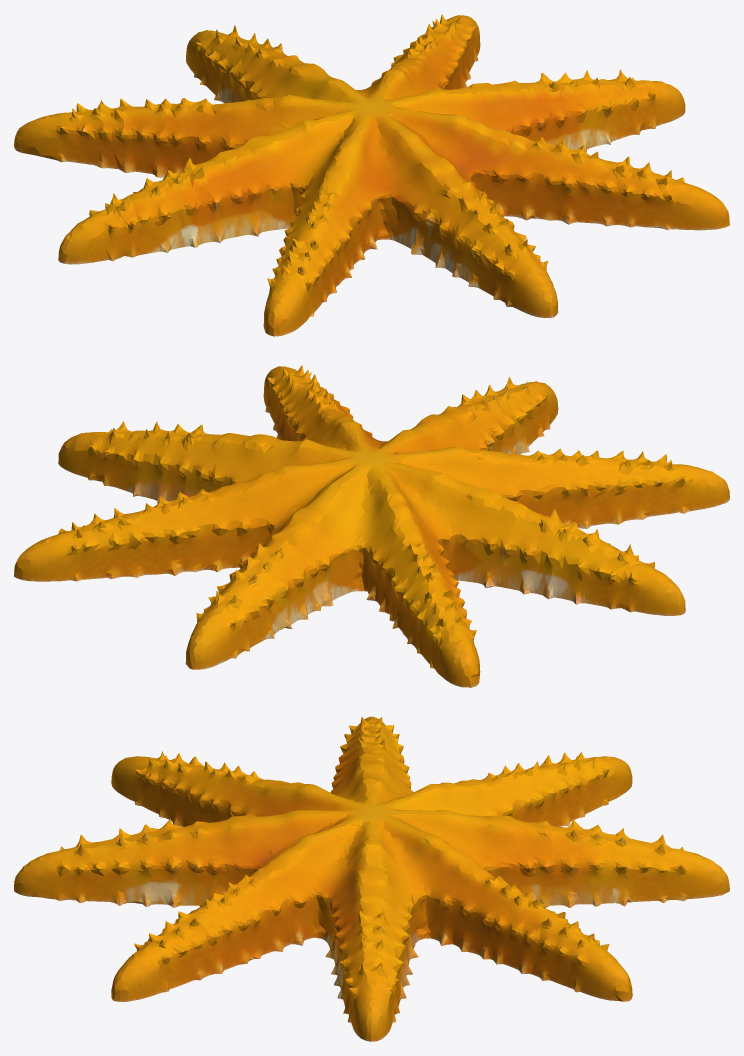
The model's file is starfish.glb.
3 views of the same model, one above another, from view 1: azimuth 30°, elevation 25°; view 2: azimuth 150°, elevation 25°; view 3: azimuth 270°, elevation 25° (orthographic).
Visible parts, largest first — view 1: Starfish; view 2: Starfish; view 3: Starfish.
Boxes of the visible parts, bbox=[...] form: Starfish: bbox=[14, 14, 729, 336]; Starfish: bbox=[14, 365, 729, 687]; Starfish: bbox=[14, 716, 729, 1041].
Size of the model in its own units: 1.9 by 0.2336 by 1.89.
Materials: 1 (1 with a texture image).
